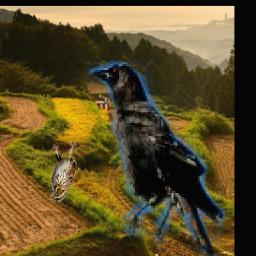Crow: (84, 58, 224, 256)
Sparrow: (49, 141, 76, 202)
